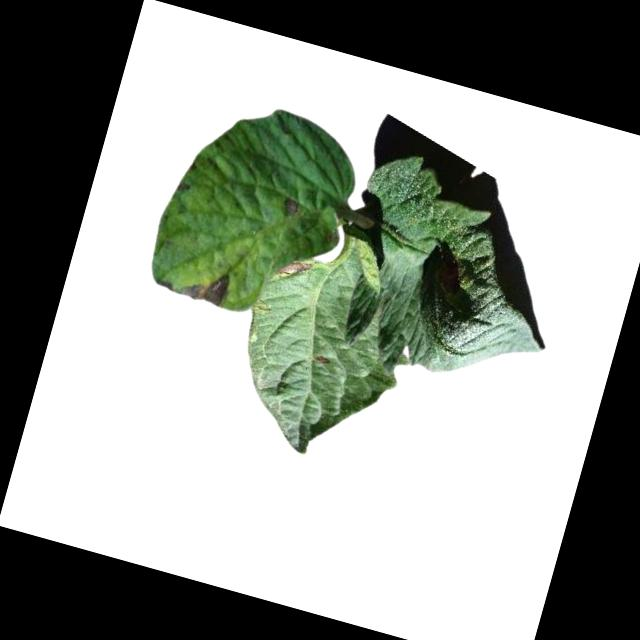Early_blight: (156, 255, 231, 308), (270, 252, 314, 288), (278, 196, 301, 221), (313, 352, 332, 368)
